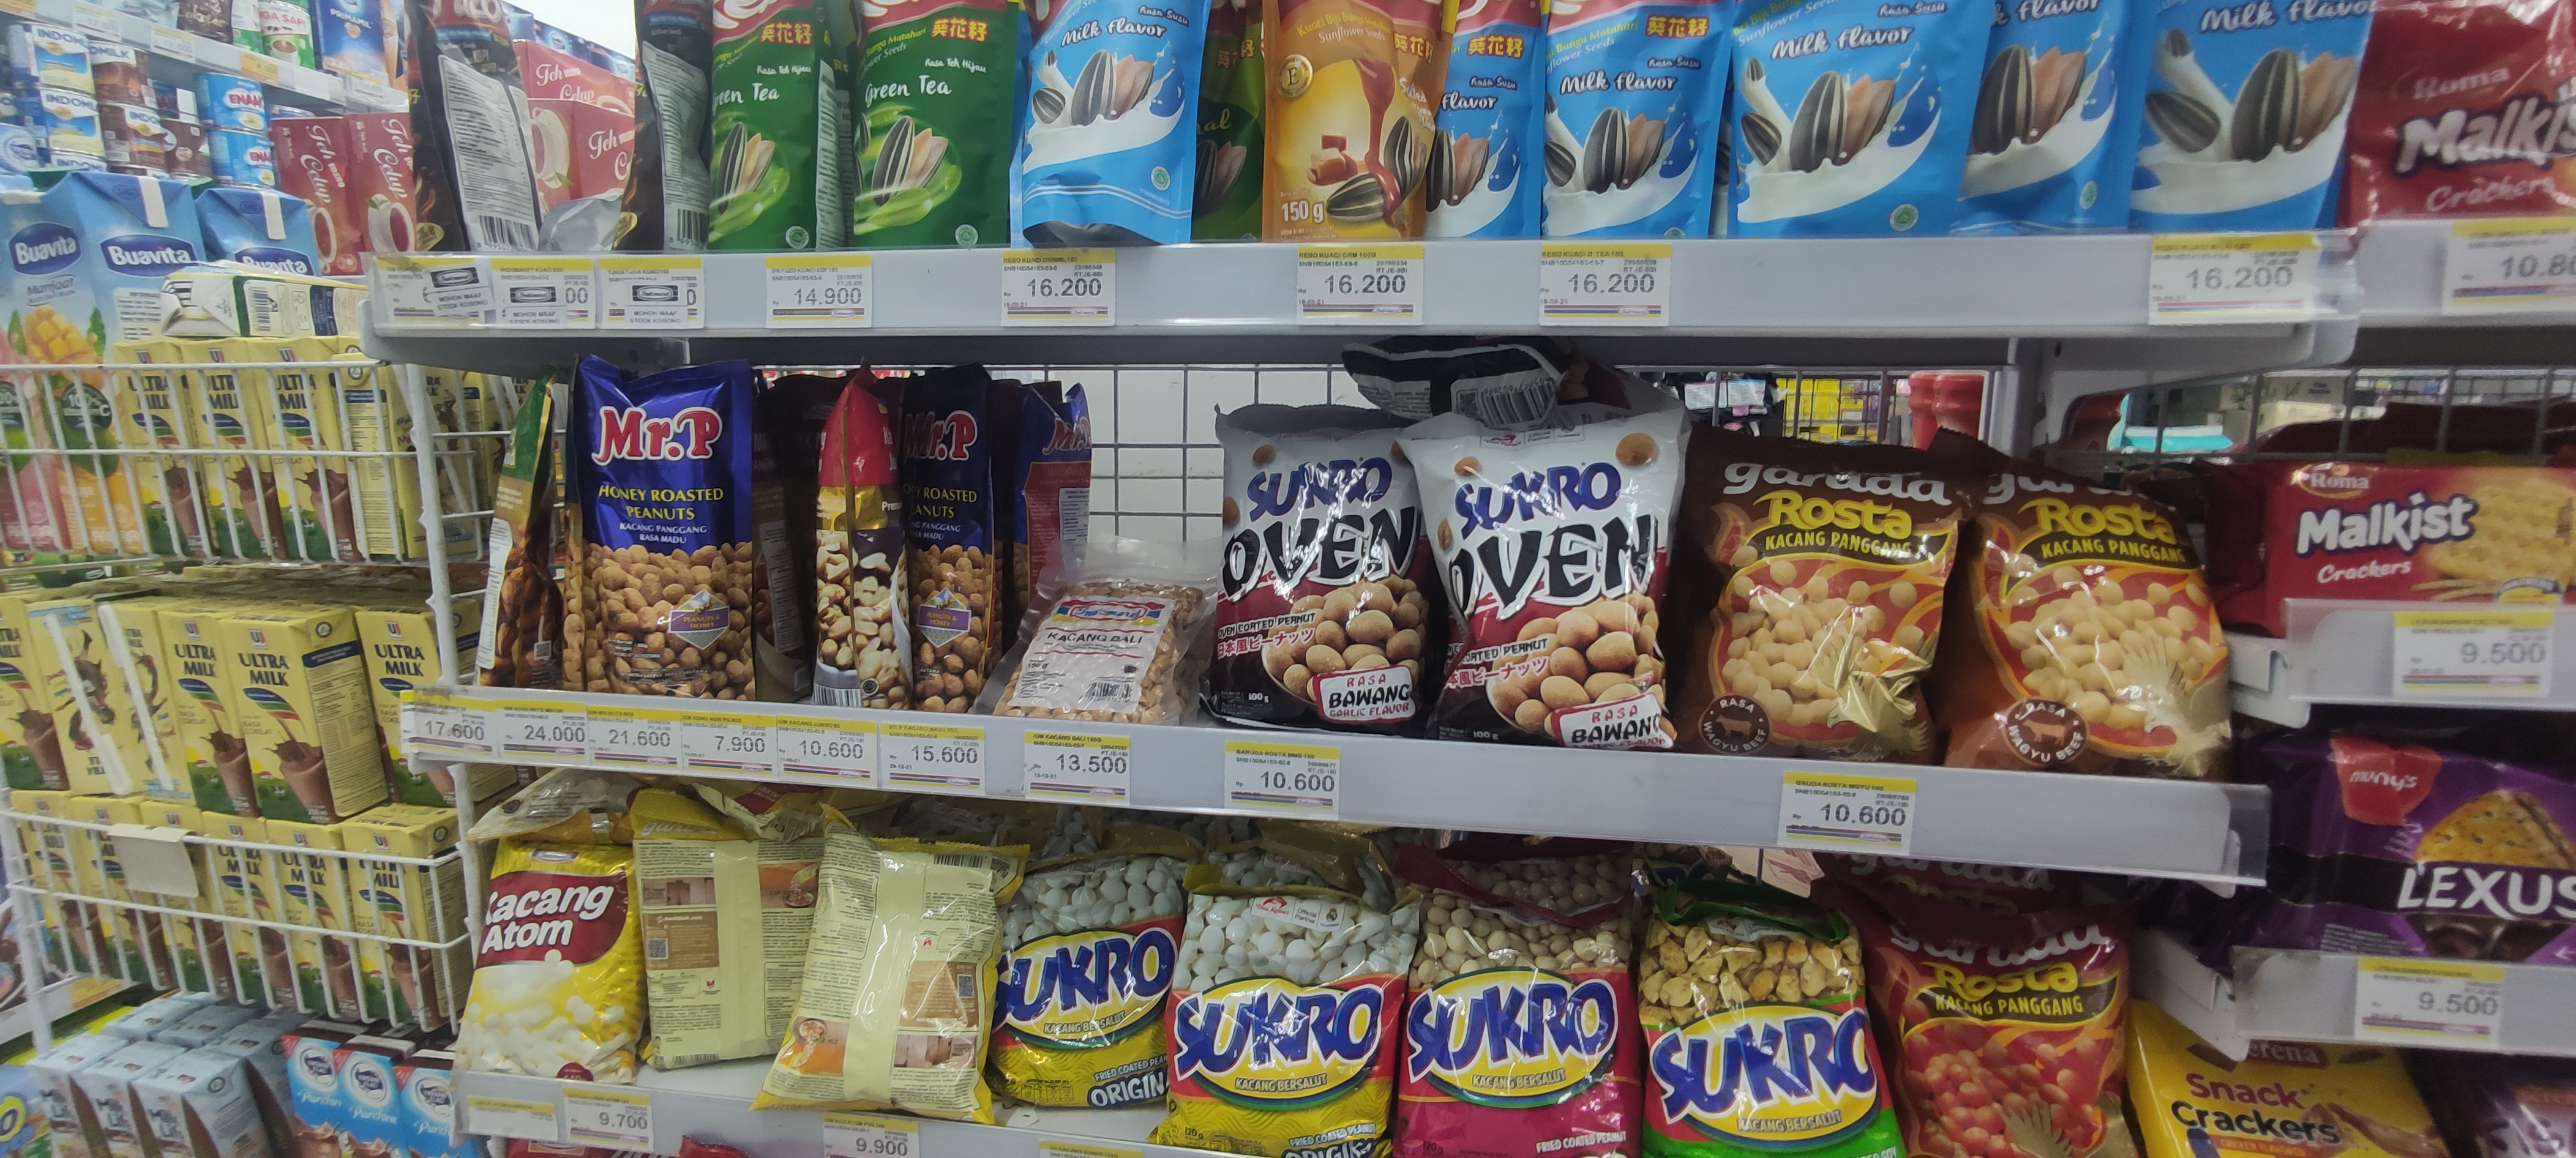90101111615100: (1957, 470, 2233, 767), (1684, 458, 1958, 754)
IndomaretKacangAtom: (792, 834, 986, 1117), (465, 841, 636, 1081), (642, 841, 812, 1079)
KacangSukroBBQ: (1419, 892, 1635, 1153)
KacangSukroKedele: (1646, 912, 1883, 1156)
KacangSukroOriginal: (1168, 900, 1398, 1158), (992, 854, 1180, 1112)
KacangSukroOvenBawang: (1424, 419, 1672, 749), (1219, 417, 1423, 728)
Mr.PHoneyRoastedPeanuts: (588, 365, 751, 700)
